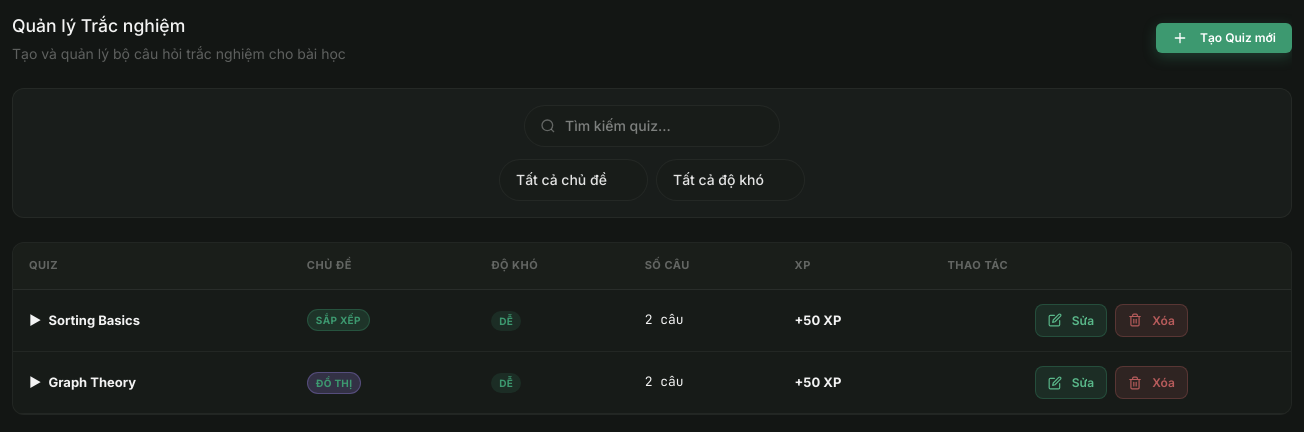
Test: QuizBuilderTab — Contract Spec (TC-040) › filter: gõ search → chỉ render quiz khớp (TC-007/TC-040)
The width and height of the screenshot is (1304, 432).
In the field with placeholder "Tìm kiếm quiz...": (652, 126) [524,105,780,147], type "Graph"
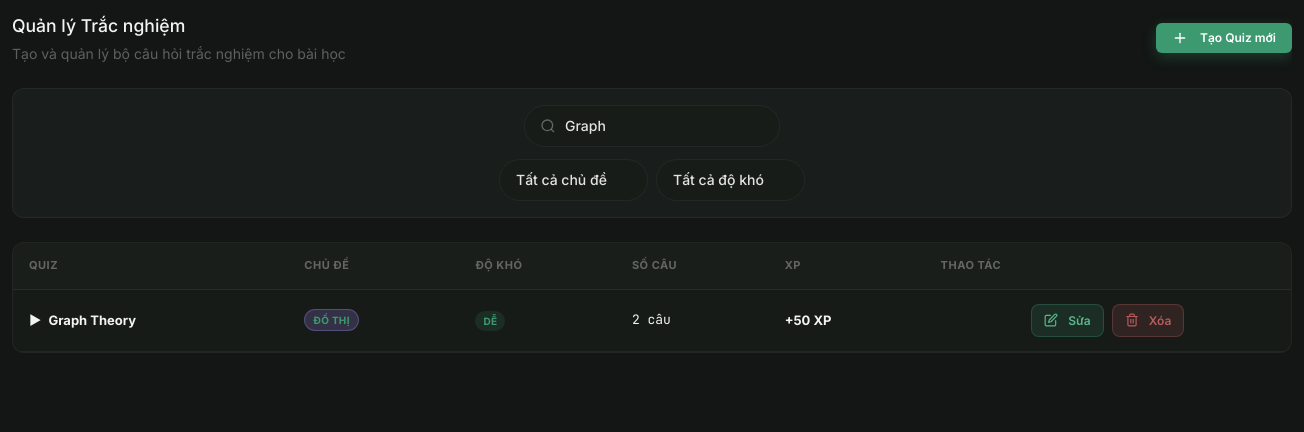
Expected: the text "Graph Theory" is shown, [45,312,136,328]
Expected: the text "Sorting Basics" is gone
